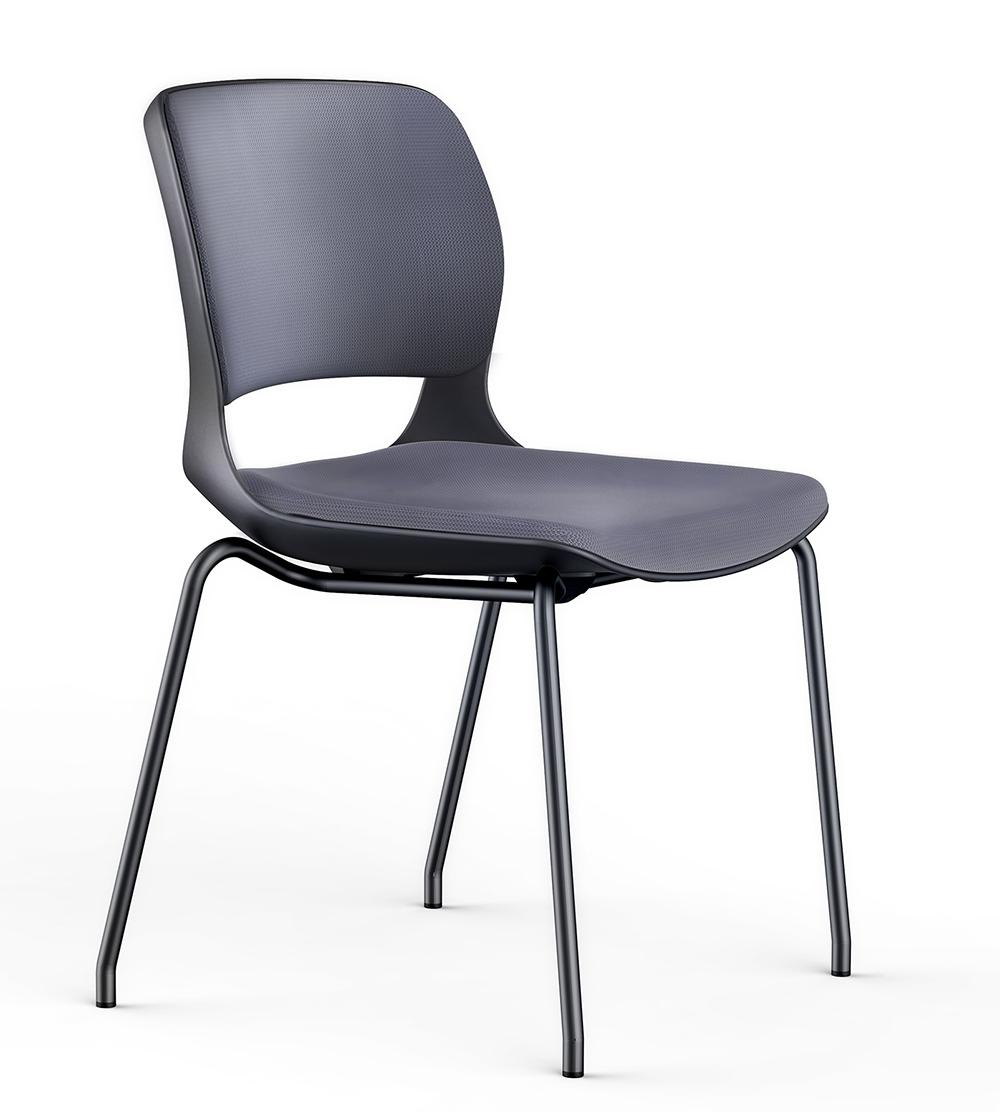chair: (84, 49, 886, 1084)
